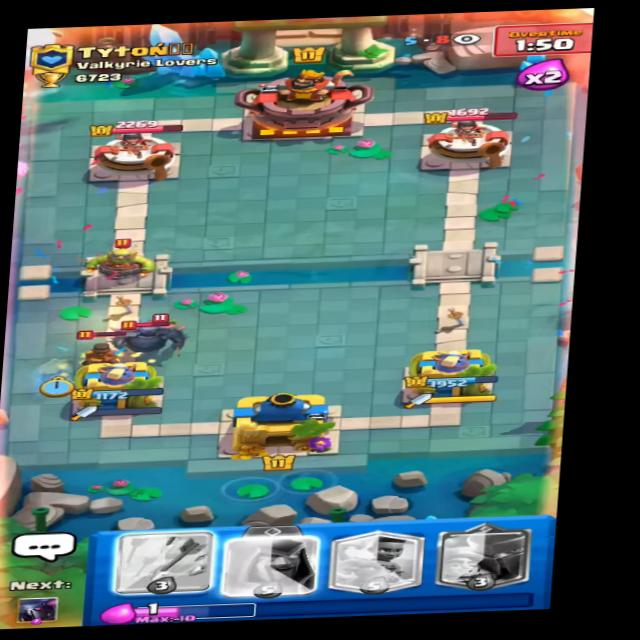goblin-demolisher: (75, 226, 174, 268)
pekka: (110, 313, 191, 353)
ram-rider: (74, 326, 129, 374)
